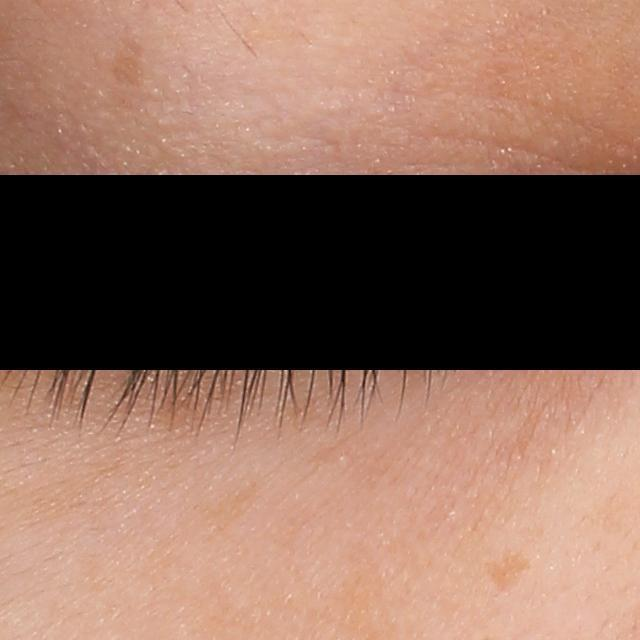melasma: (78, 482, 267, 596), (480, 542, 533, 598), (111, 38, 149, 90)
